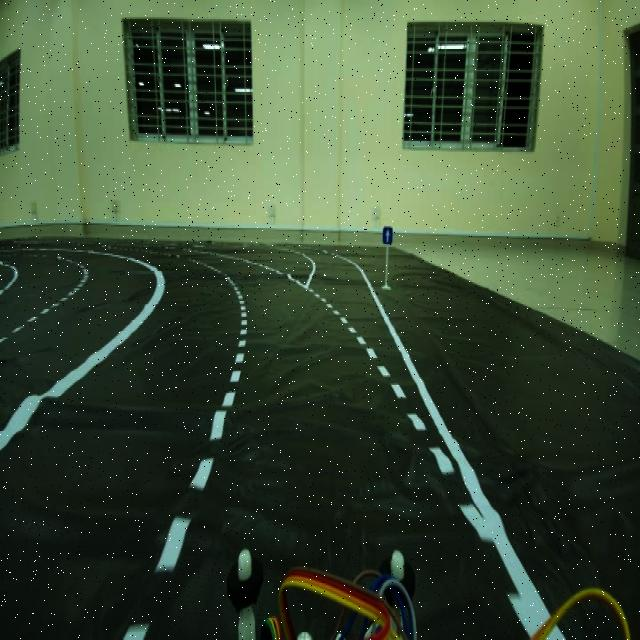onewayroad: (375, 219, 394, 250)
